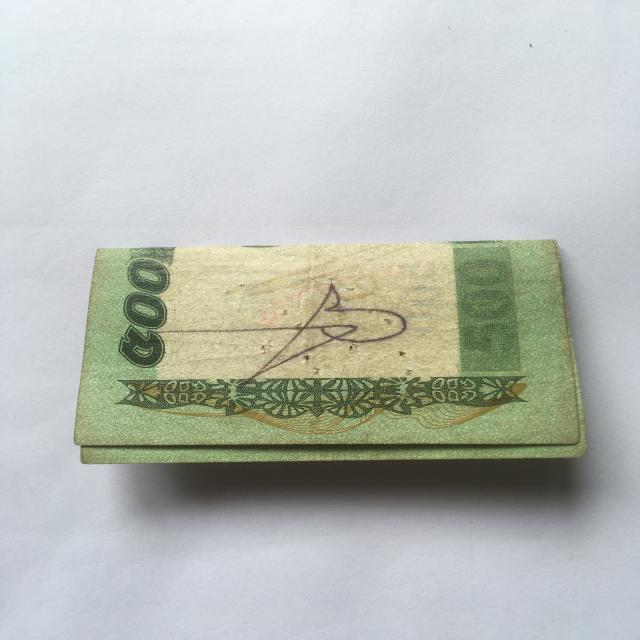Taka: (73, 232, 599, 462)
